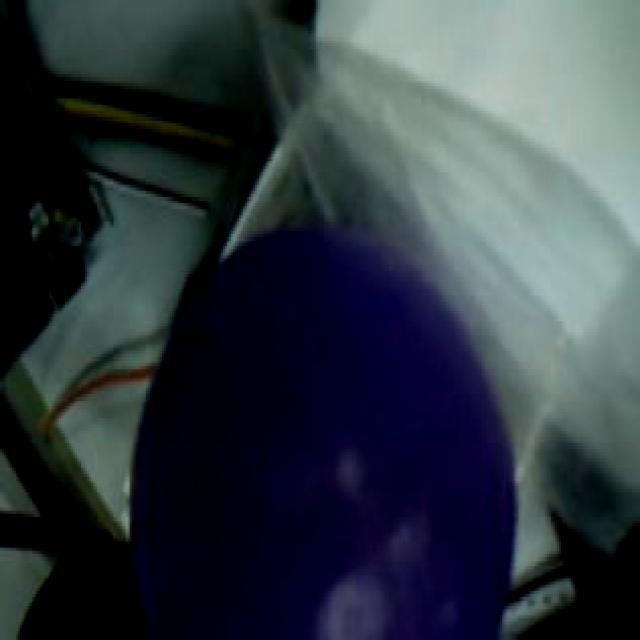BallPurple: (130, 234, 516, 640)
